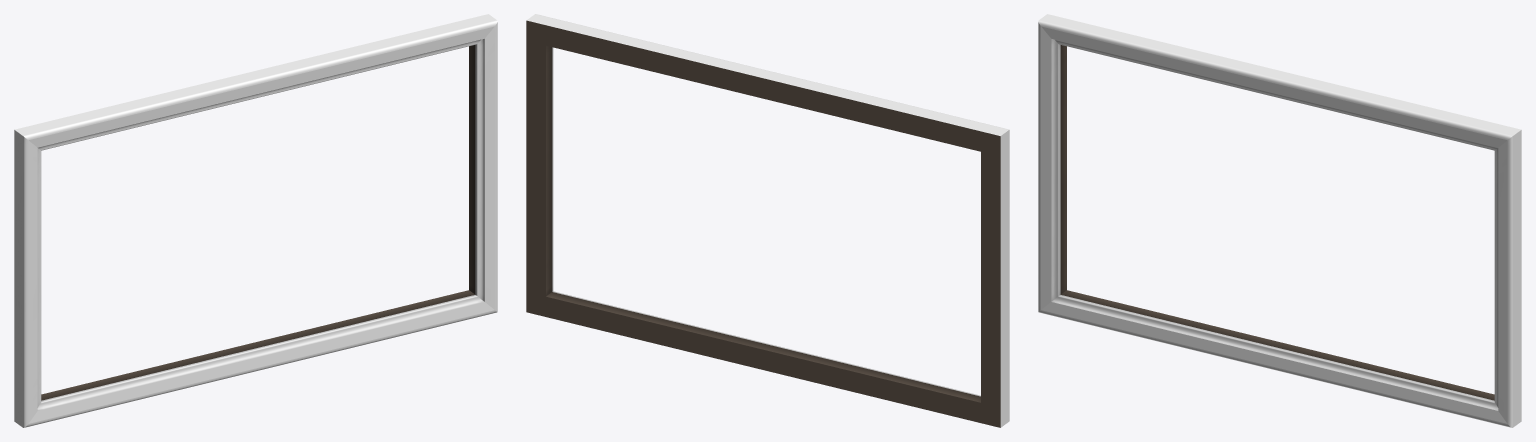
The model's file is 16-pesn-o-shambale.glb.
3 renders of one model, left to right at view 1: azimuth 30°, elevation 25°; view 2: azimuth 150°, elevation 25°; view 3: azimuth 330°, elevation 25°, orthographic.
Visible parts, largest first — view 1: Frame; view 2: Frame; view 3: Frame.
Boxes of the visible parts, x1,y1,x2,y2 form: Frame: (14,14,497,427); Frame: (526,14,1009,427); Frame: (1038,14,1521,427).
Bounding box in the file's own units: 1.95 × 1.14 × 0.0722.
